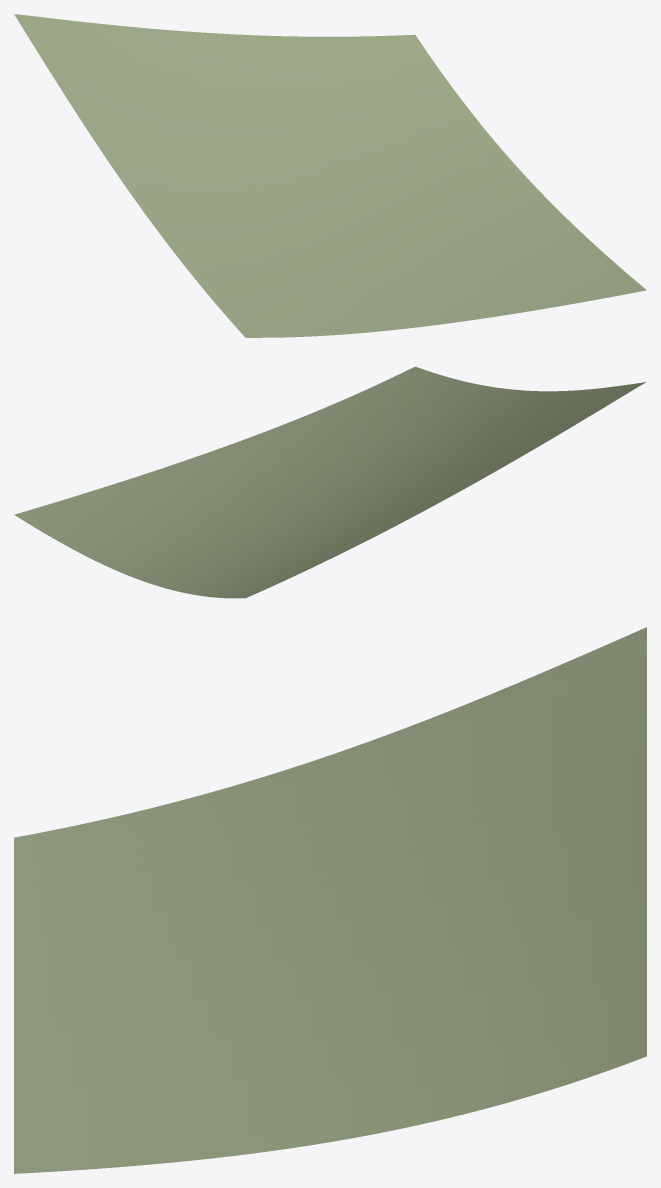
Rendered from expanse-23-23.glb.
3 views of the same model, one above another, from view 1: azimuth 30°, elevation 25°; view 2: azimuth 210°, elevation 25°; view 3: azimuth 270°, elevation 25° (orthographic). The views are drawn at different scales.
Visible parts, largest first — view 1: expanse-23-23; view 2: expanse-23-23; view 3: expanse-23-23.
Part boxes in pixels (bbox=[...]): expanse-23-23: bbox=[14, 14, 646, 337]; expanse-23-23: bbox=[14, 366, 646, 598]; expanse-23-23: bbox=[14, 627, 646, 1173].
Size of the model in its own units: 256 by 125 by 256.
